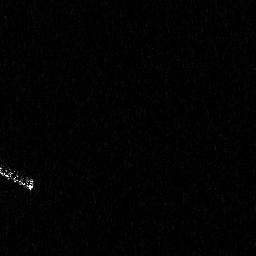ship: (1, 164, 35, 193)
